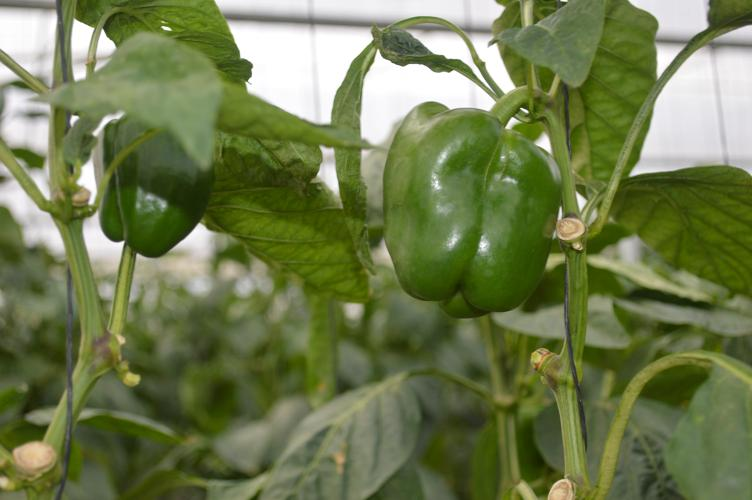BellPepper: (373, 104, 560, 319), (93, 113, 214, 262)
